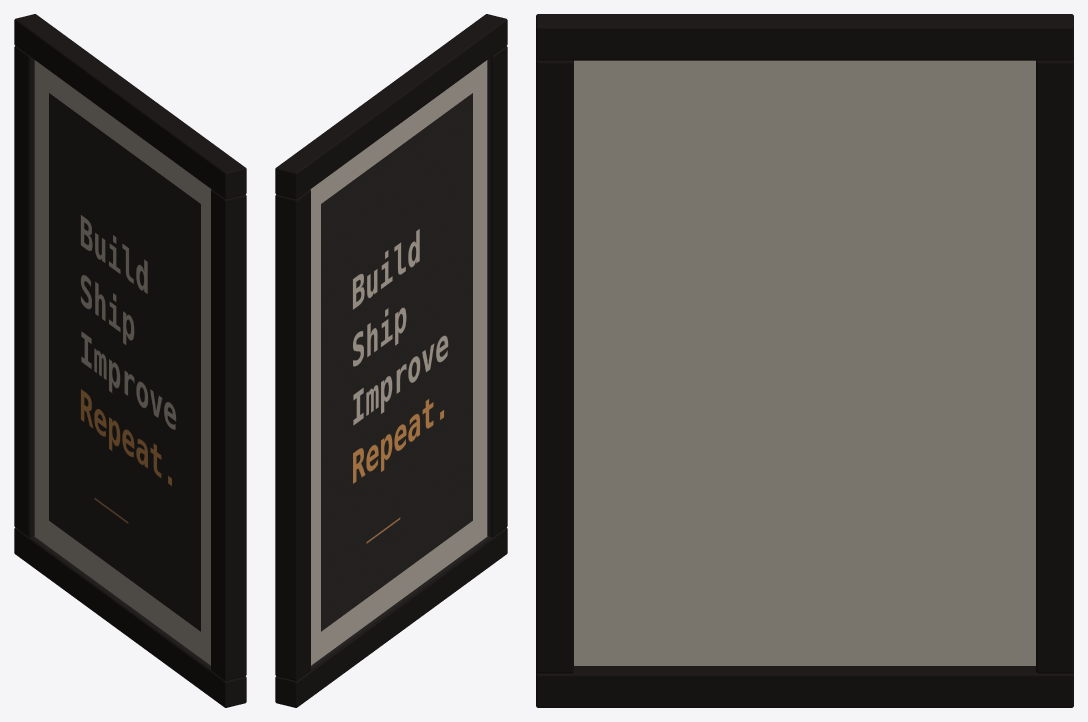
Rendered from wall-poster.glb.
The picture shows the model from 3 angles, left to right: view 1: azimuth 30°, elevation 25°; view 2: azimuth 150°, elevation 25°; view 3: azimuth 270°, elevation 25°; orthographic projection. The views are drawn at different scales.
Parts seen in each view (by area): view 1: poster_print, poster_frame, poster_mat; view 2: poster_print, poster_frame, poster_mat; view 3: poster_mat, poster_frame.
Part boxes in pixels (x1,y1,x2,y2): poster_print: (49,93,200,631); poster_frame: (14,14,246,707); poster_mat: (34,60,211,665); poster_print: (321,93,472,631); poster_frame: (275,14,507,707); poster_mat: (310,60,487,665); poster_mat: (574,60,1035,665); poster_frame: (536,14,1073,707).
Bounding box in the file's own units: 0.03 × 0.695 × 0.497.
Materials: 4 (1 with a texture image).
